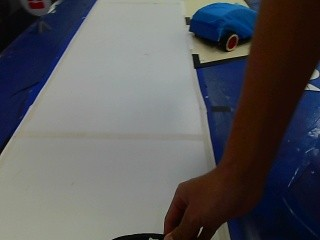car: (187, 3, 253, 50)
